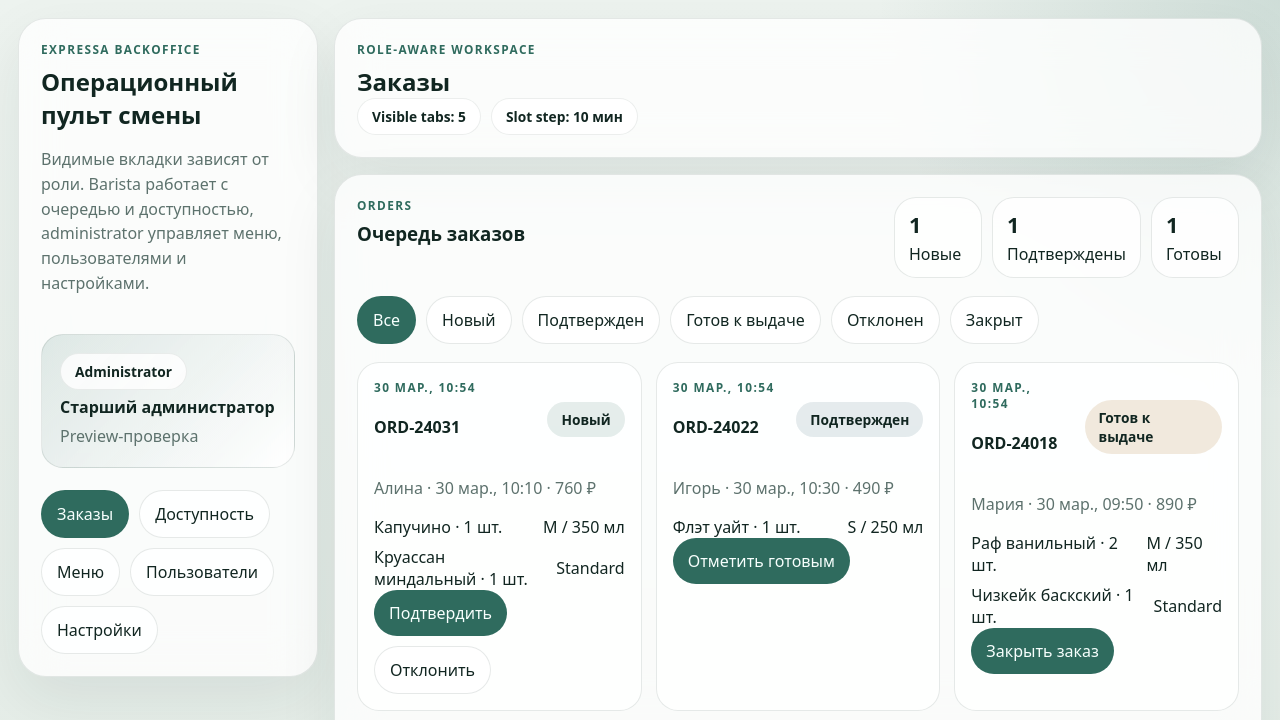
Test: Backoffice App › validates working hours before saving settings
This screenshot has width=1280, height=720.
Click the button "Настройки". click: (99, 630)
box: [41,606,158,654]
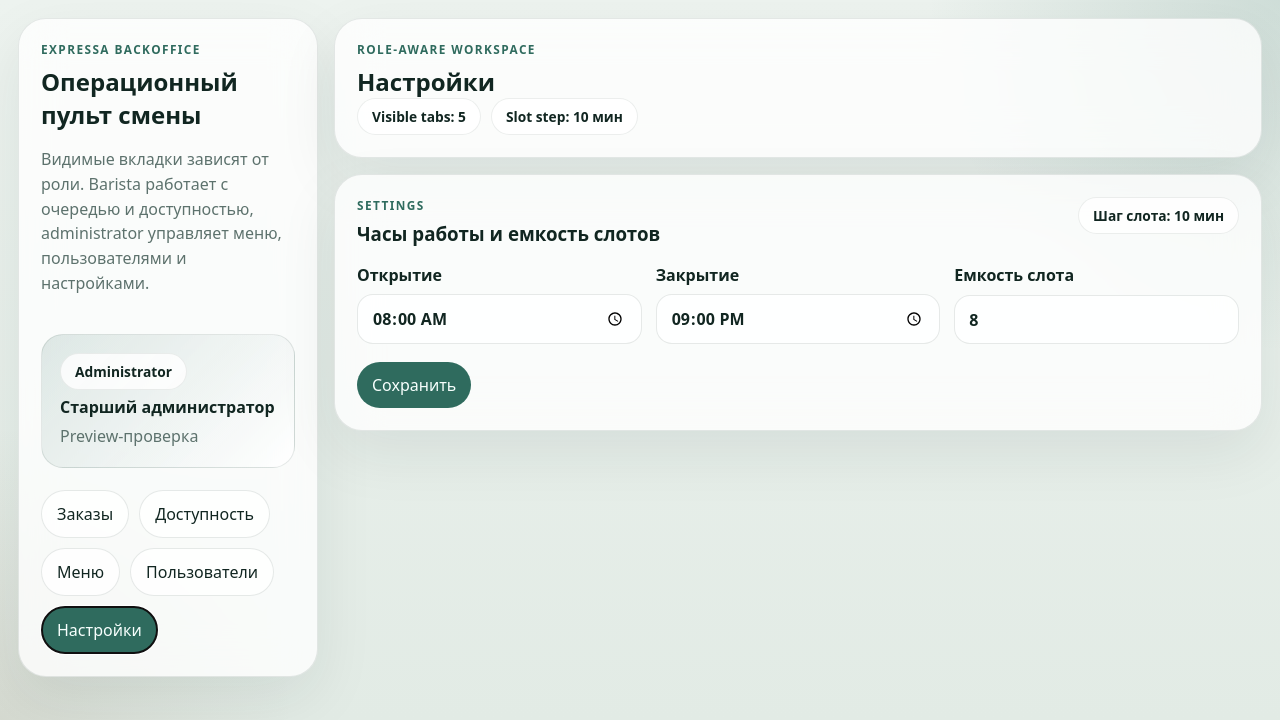
Replace the text in the time field labelled "Открытие" with "22:00". click: (499, 319)
box: [357,294,642,344]
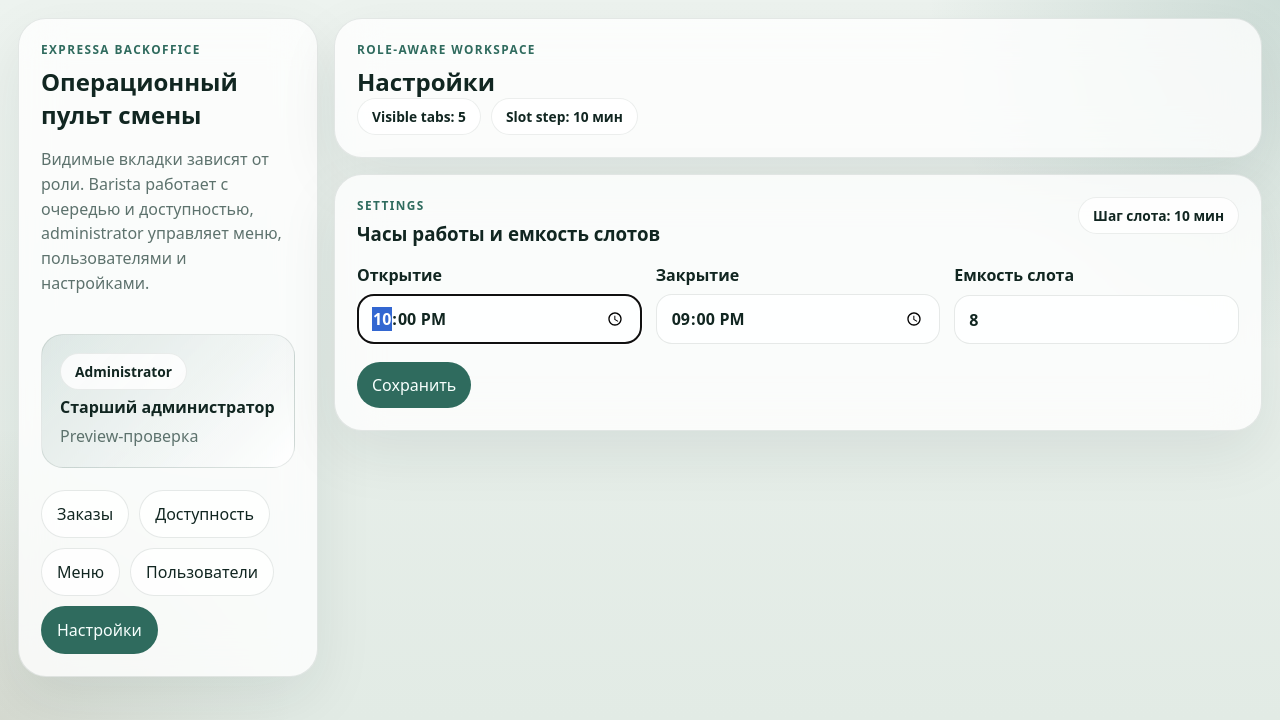
Replace the text in the time field labelled "Закрытие" with "08:00". click: (798, 319)
box: [656,294,940,344]
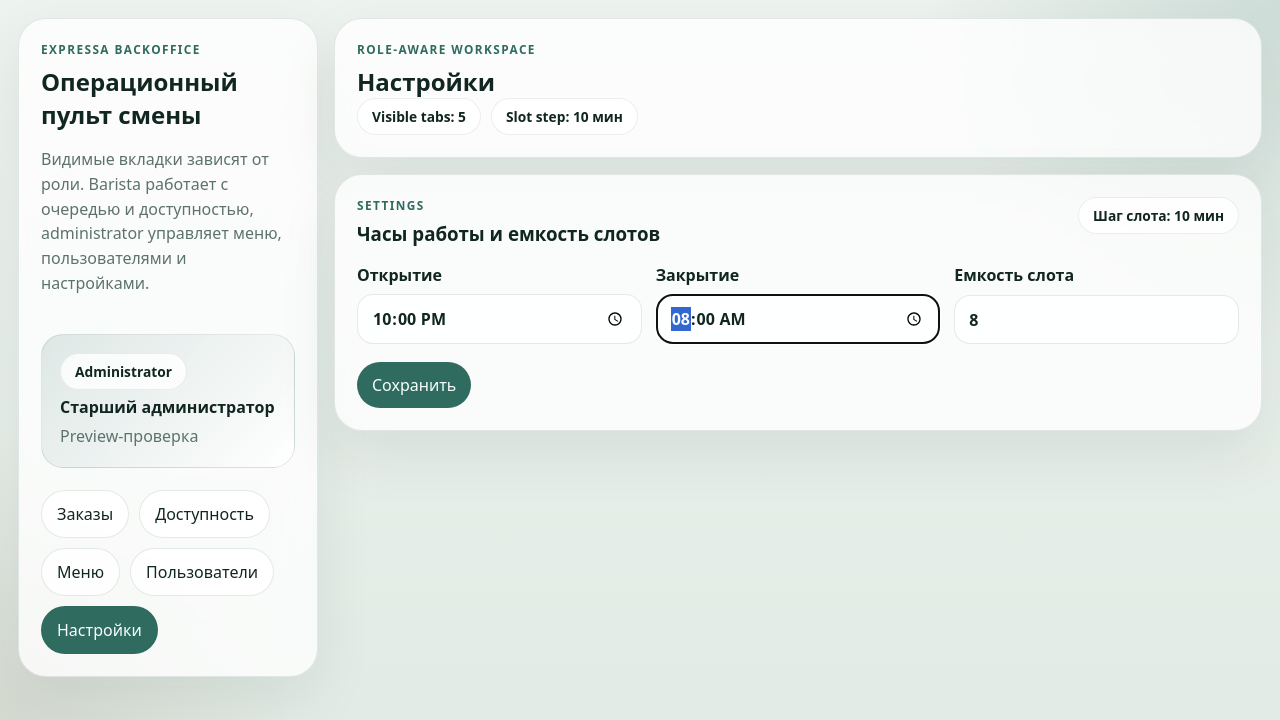
Click the button "Сохранить". click: (414, 385)
box: [357,362,471,408]
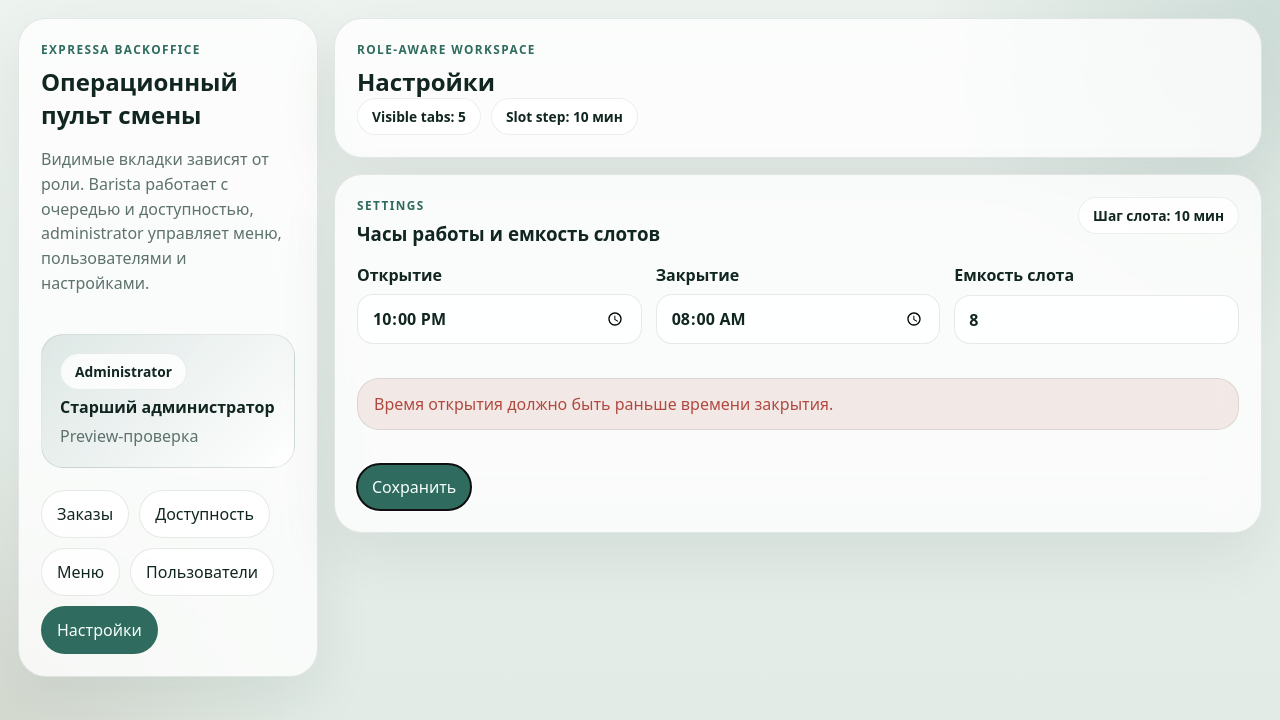
Check: the text "Время открытия должно быть раньше времени закрытия." is shown, box [357,378,1239,430]
